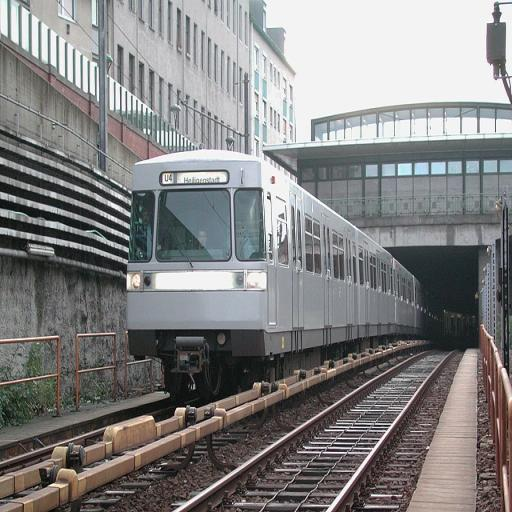Silberpfeil: (124, 144, 434, 401)
